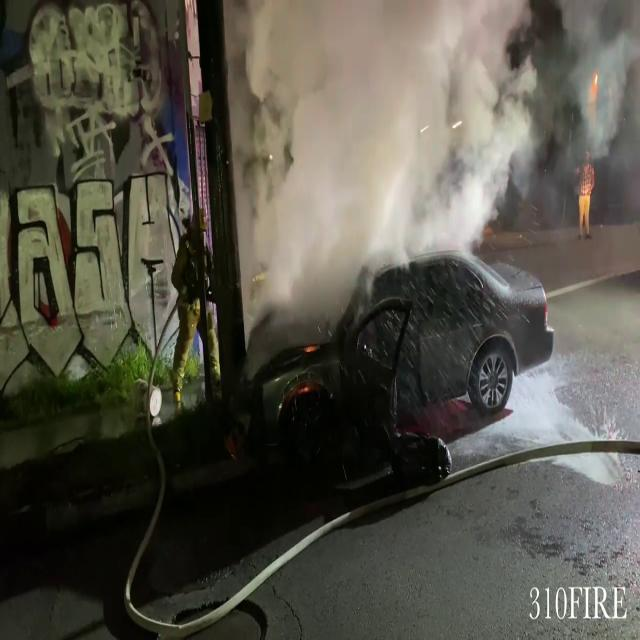Fire: (575, 152, 597, 234)
Smoke: (232, 0, 640, 286)
